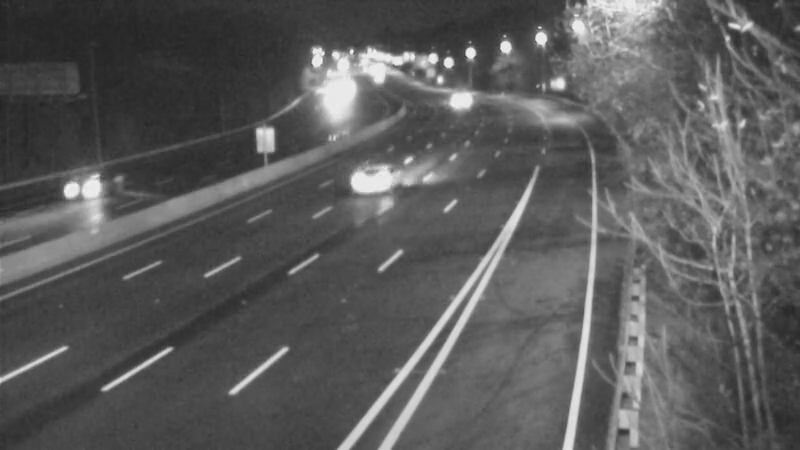vehicle: (342, 137, 422, 217), (33, 152, 113, 232), (440, 75, 490, 125)
